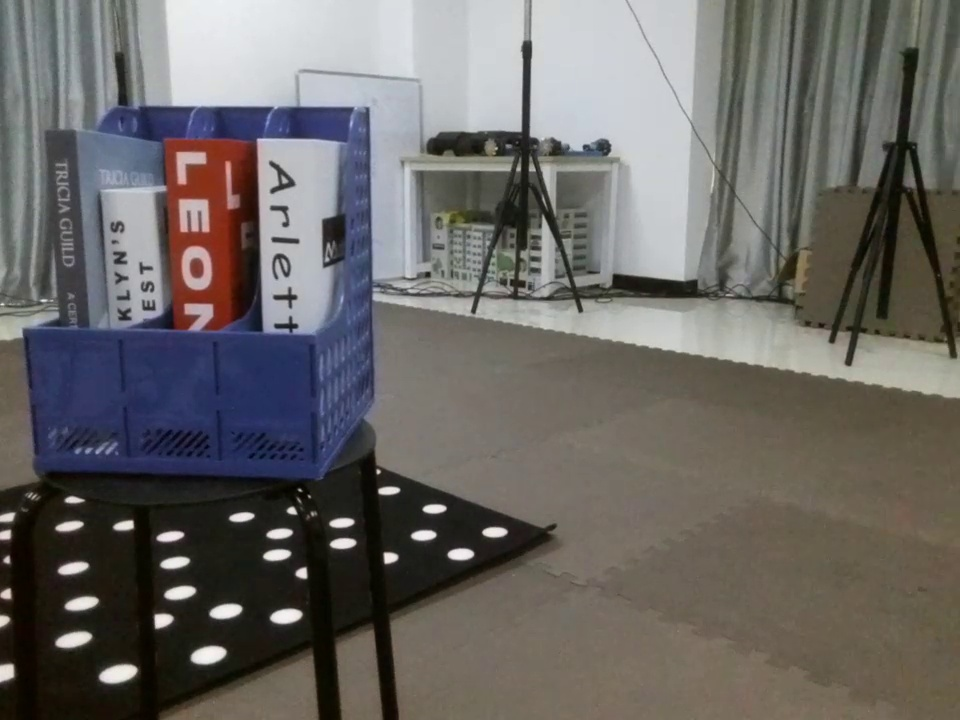files: (19, 90, 383, 489)
